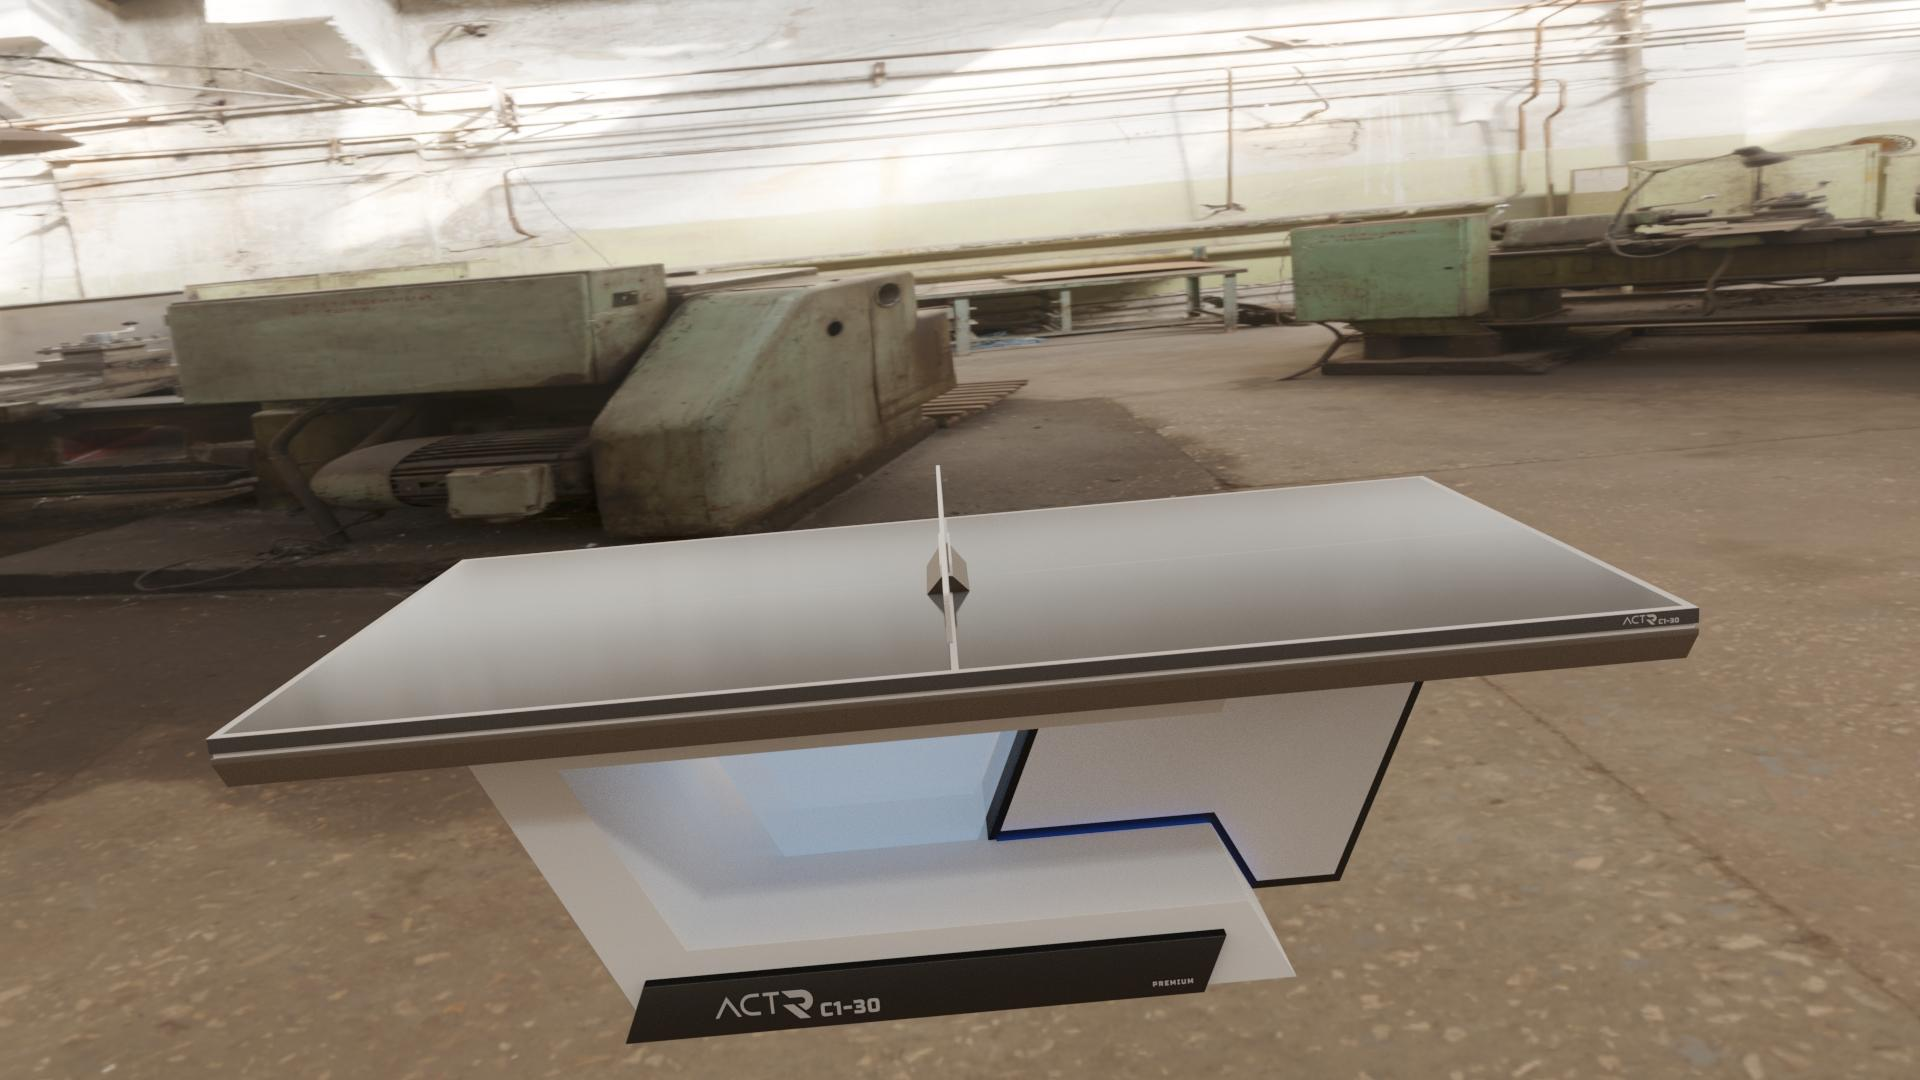table: (222, 477, 1684, 735)
